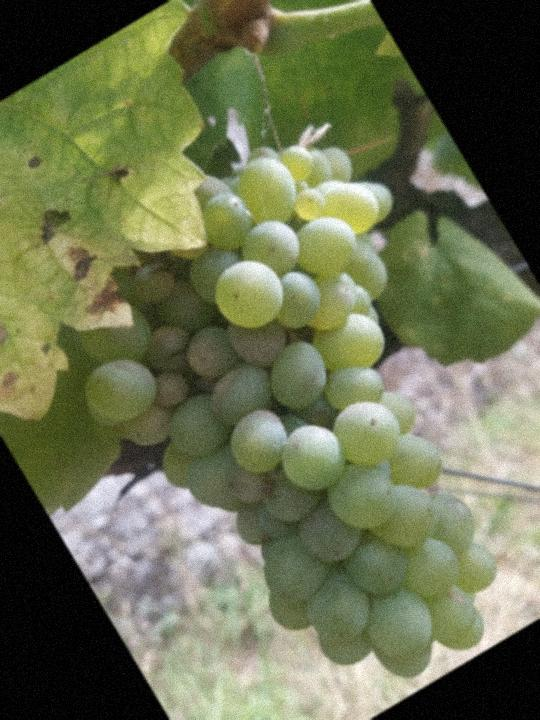grape: (15, 94, 540, 720)
